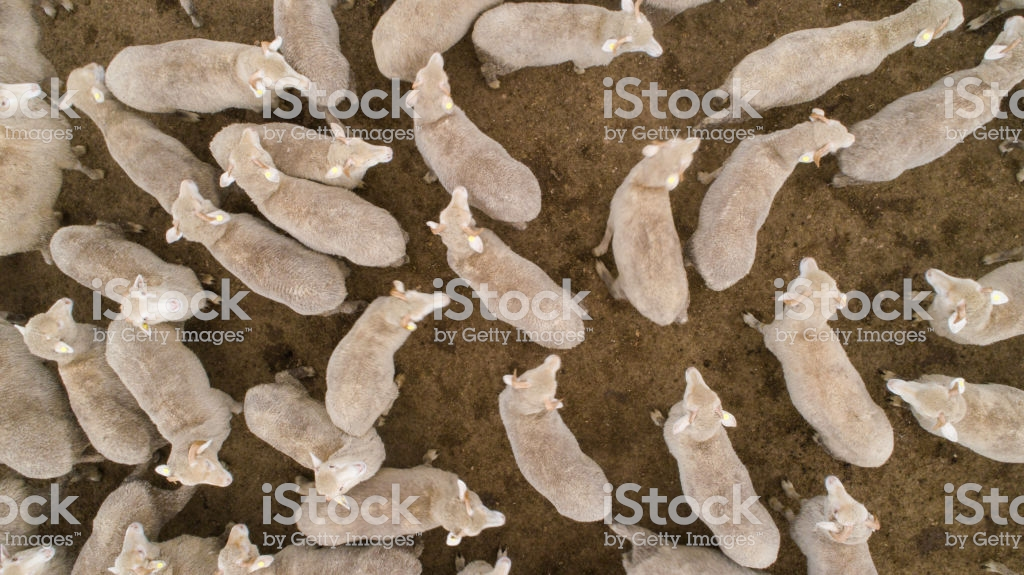sheep: (745, 246, 893, 472), (690, 103, 857, 289), (719, 1, 975, 121), (647, 359, 787, 569), (163, 172, 356, 319), (419, 186, 588, 351), (95, 303, 243, 490), (392, 50, 544, 232), (13, 295, 162, 469), (60, 63, 222, 209), (595, 119, 704, 327), (37, 213, 207, 336), (495, 353, 616, 525), (107, 36, 316, 130), (325, 281, 449, 439), (475, 1, 669, 96), (884, 360, 1024, 462), (212, 517, 440, 575), (916, 257, 1024, 339)
